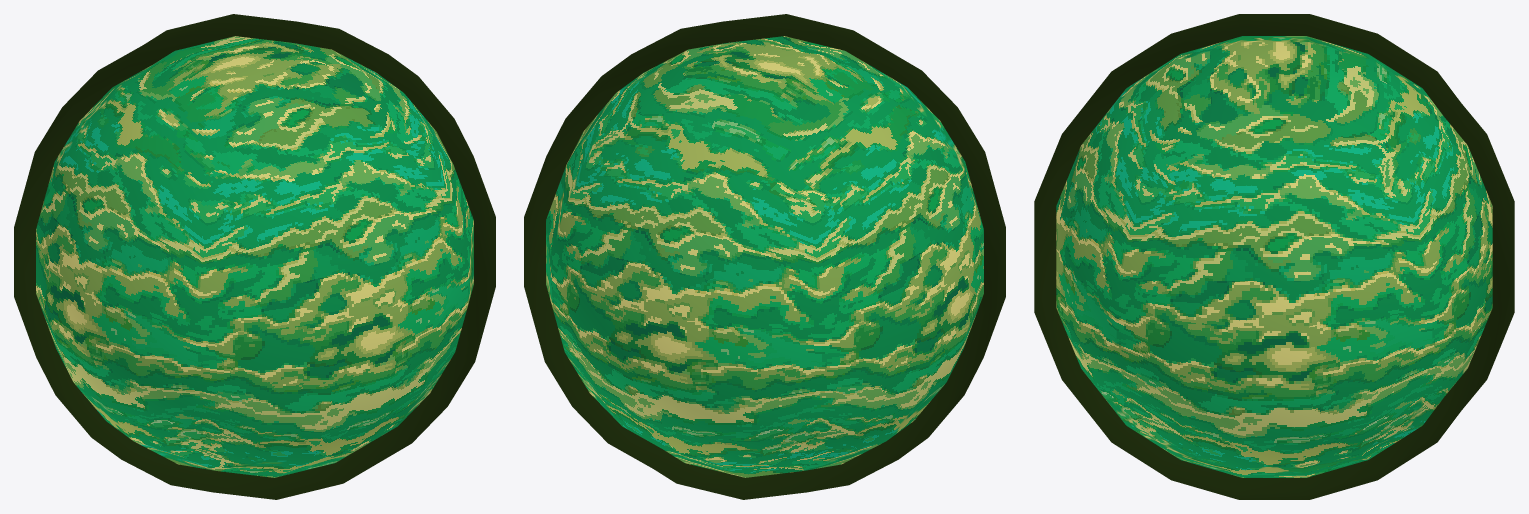
File: kepler-7b.glb
3 renders of one model, left to right at view 1: azimuth 30°, elevation 25°; view 2: azimuth 150°, elevation 25°; view 3: azimuth 270°, elevation 25°, orthographic.
Parts seen in each view (by area): view 1: Object_2; view 2: Object_2; view 3: Object_2.
Boxes of the visible parts, x1,y1,x2,y2 form: Object_2: (14, 14, 495, 499); Object_2: (524, 14, 1005, 499); Object_2: (1034, 14, 1514, 499).
Size of the model in its own units: 3.7 by 3.7 by 3.7.
Materials: 1 (1 with a texture image).
